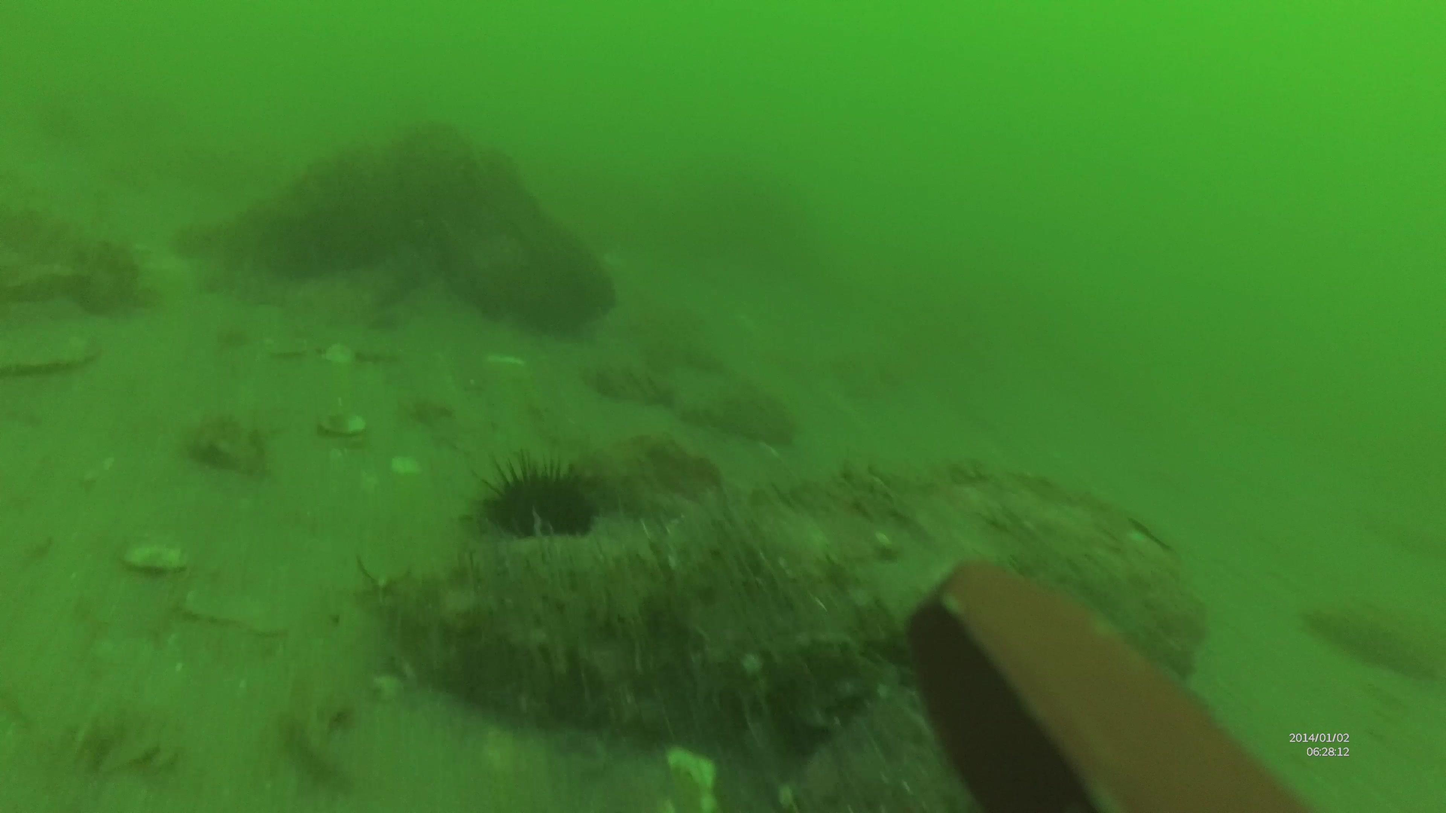starfish: (469, 460, 593, 542)
